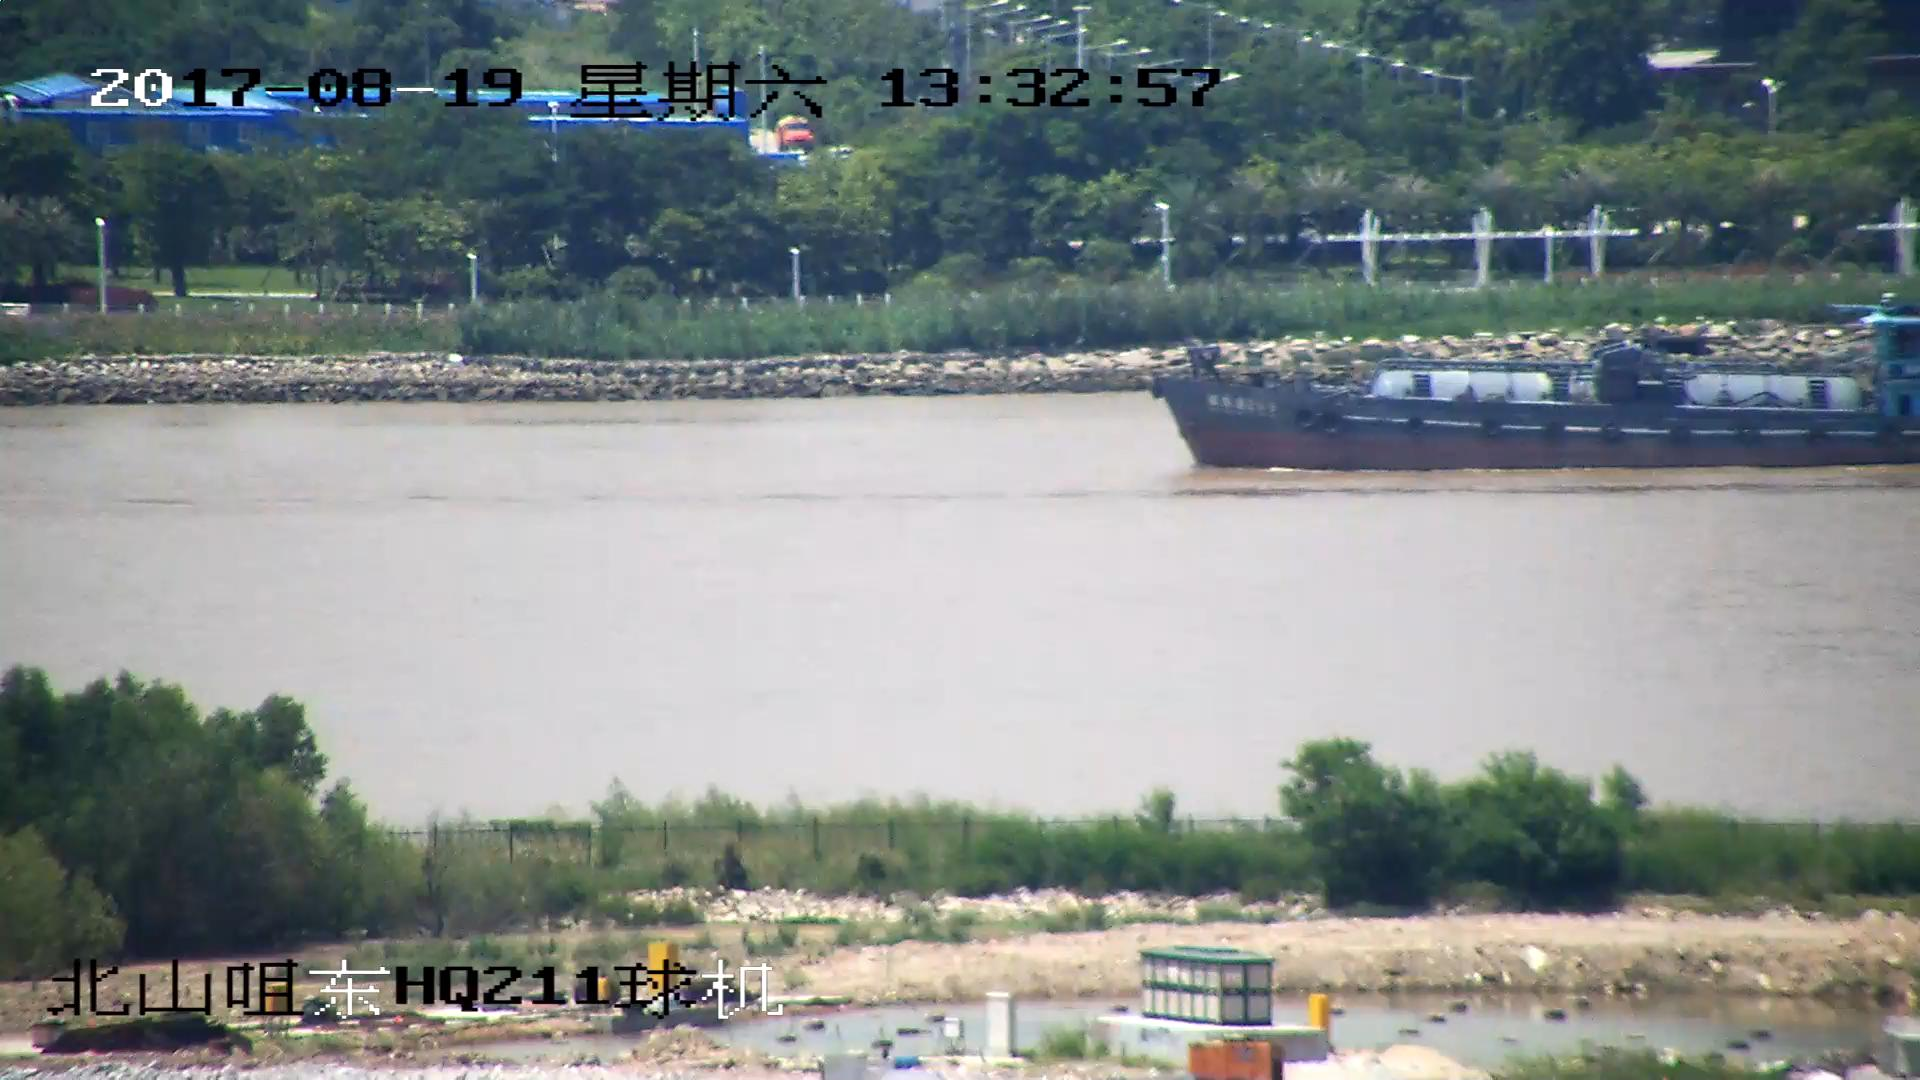bulk cargo carrier: (1151, 303, 1920, 470)
